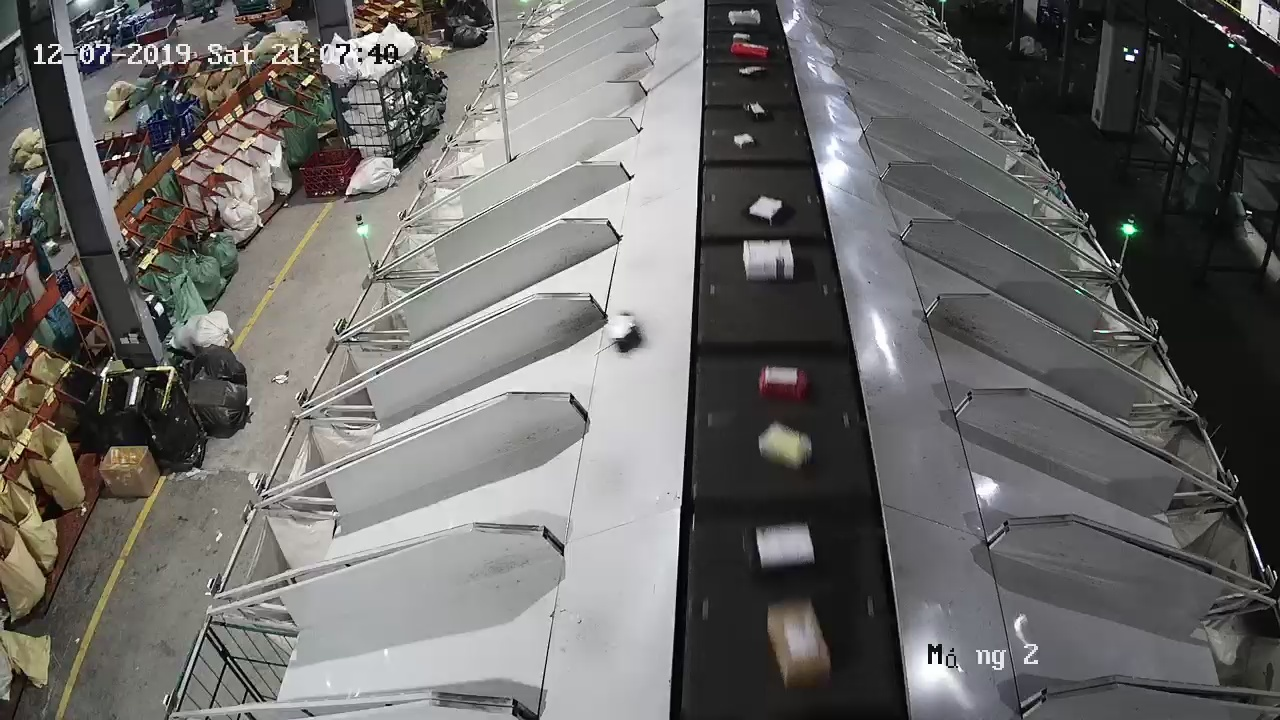parcel: (604, 311, 643, 354)
